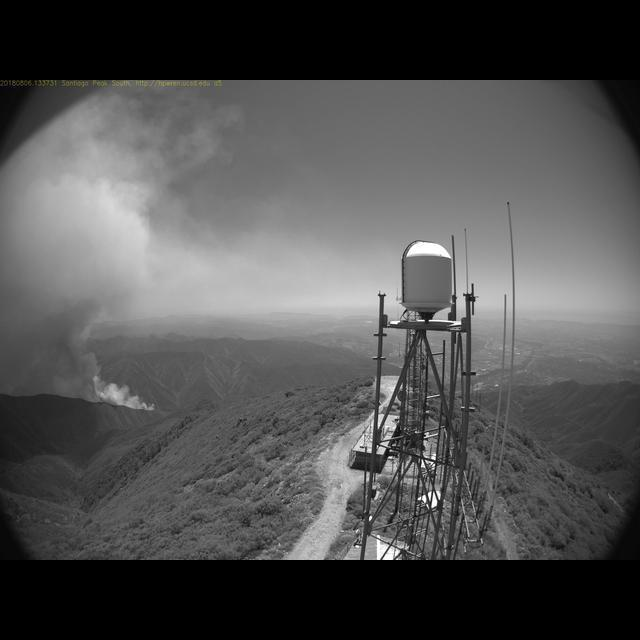Smoke: (4, 160, 157, 422)
